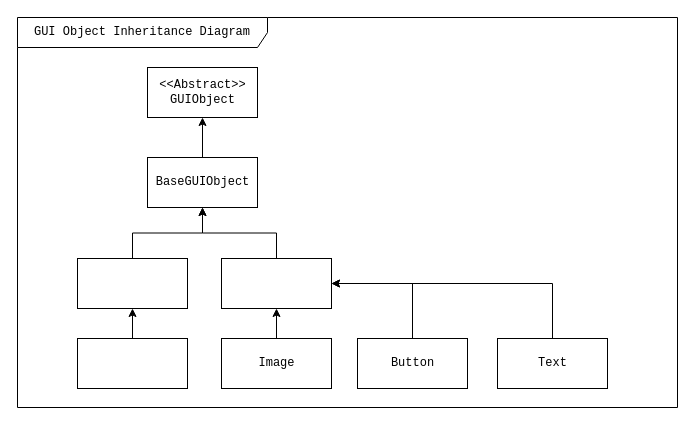
This 695x425 diagram has some shape labels left out. Here are the shapes that lost their labels. From the top down, the centre of each, then its label:
At (x=132, y=283): "Window".
At (x=276, y=283): "Widget".
At (x=132, y=363): "MainWindow".
